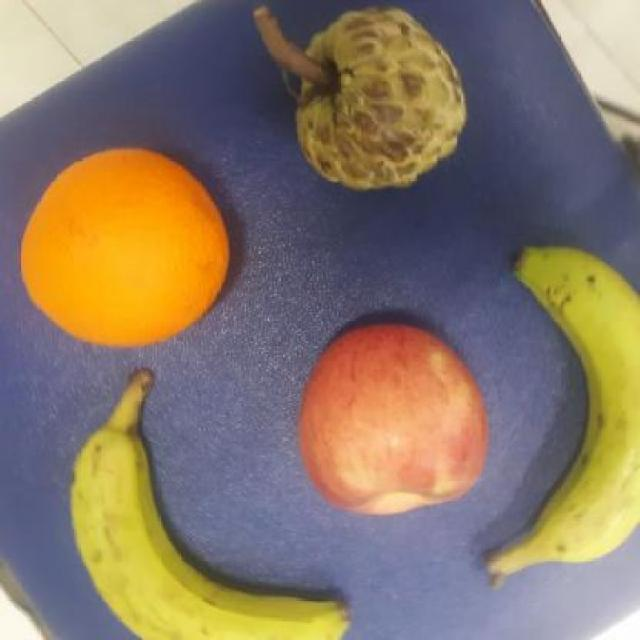apple: (294, 318, 497, 522)
banana: (64, 363, 350, 639), (487, 245, 640, 588)
oren: (18, 145, 232, 350)
sugar apple: (297, 2, 468, 193)
